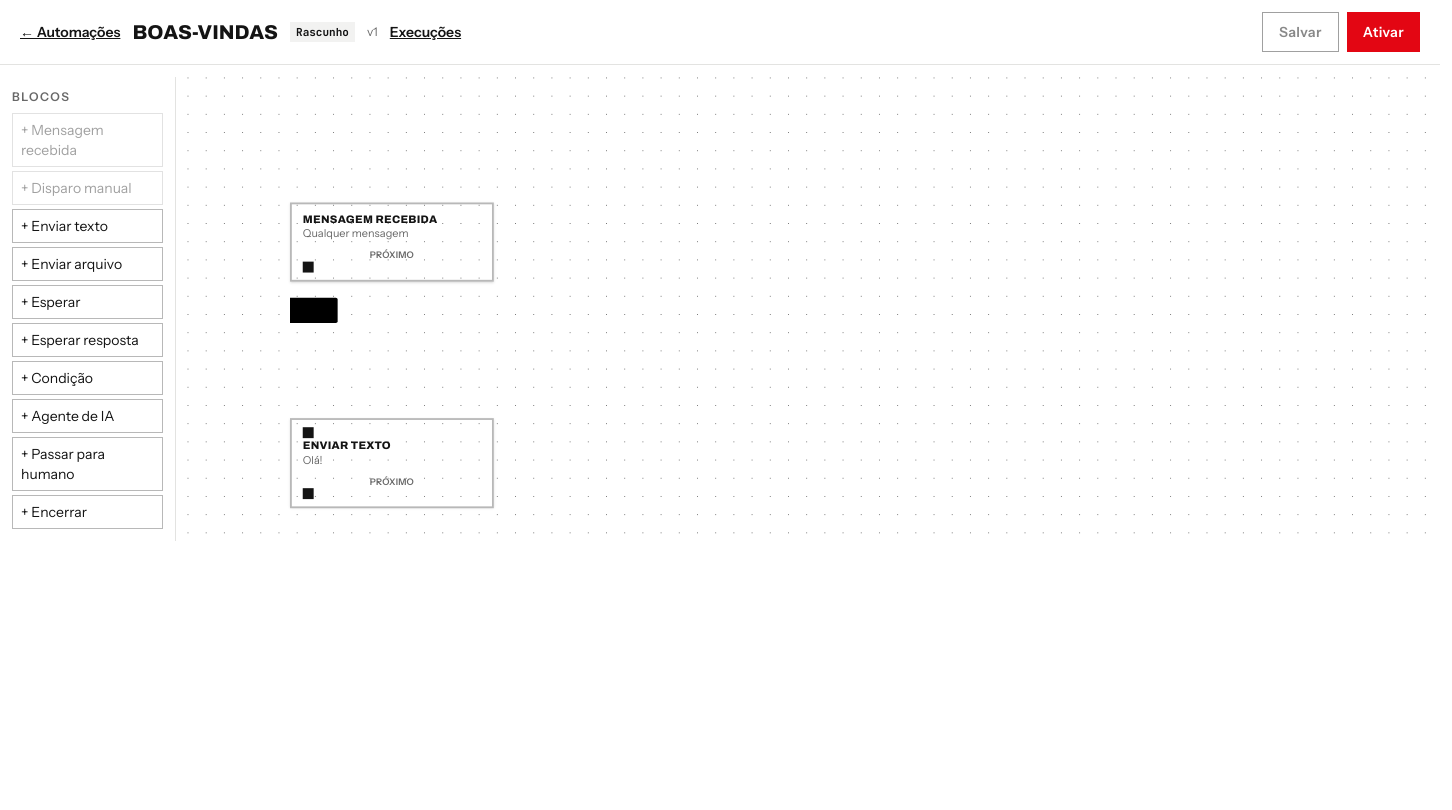
Test: FlowEditor › highlights the blocks named by a 422 and shows graph-level issues
expect the button "Salvar" is disabled: met, box [1262,12,1339,52]
Click the button with aria-label "Adicionar Encerrar".
click(88, 512)  # box [12,495,163,529]
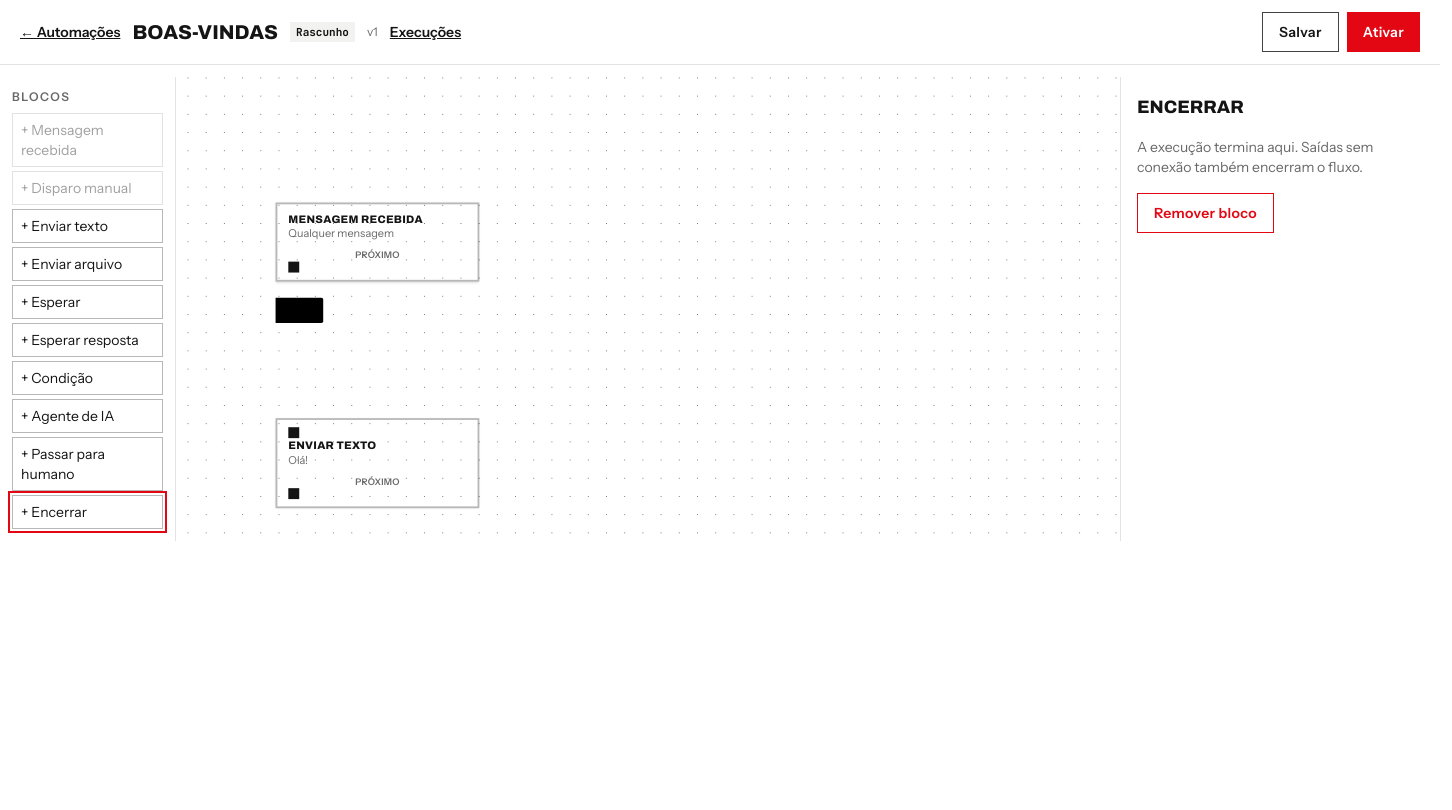
Click the button "Salvar".
click(1300, 32)  # box [1262,12,1339,52]
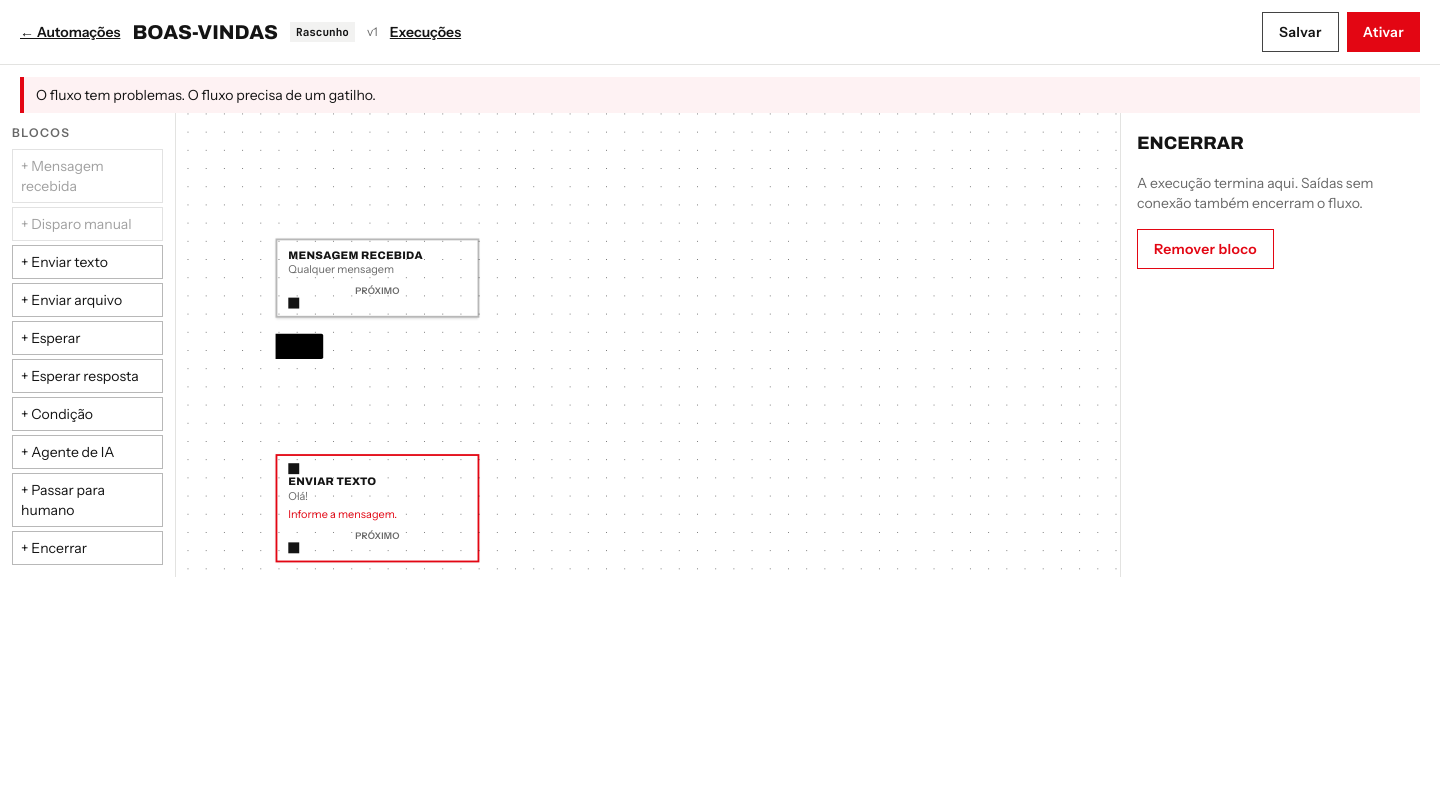
expect the message reads "O fluxo tem problemas. O fluxo precisa de um gatilho.": met, box [36,86,376,104]
expect the element with test id "block-send_text" shows "Informe a mensagem.": met, box [288,507,397,520]
